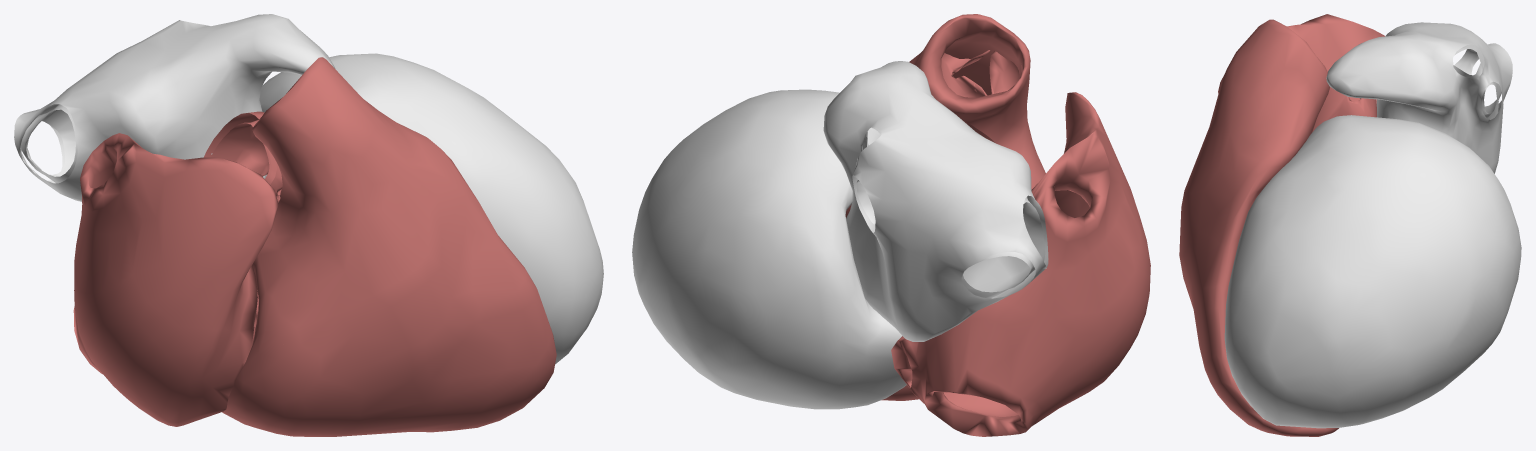
Rendered from vh_f_heart-20.fbx.
3 renders of one model, left to right at view 1: azimuth 30°, elevation 25°; view 2: azimuth 150°, elevation 25°; view 3: azimuth 270°, elevation 25°, orthographic. The views are drawn at different scales.
Visible parts, largest first — view 1: VH_F_right_ventricle, VH_F_right_cardiac_atrium, VH_F_left_ventricle, VH_F_left_cardiac_atrium, VH_F_aortic_valve; view 2: VH_F_left_ventricle, VH_F_left_cardiac_atrium, VH_F_right_cardiac_atrium, VH_F_right_ventricle, VH_F_pulmonary_valve; view 3: VH_F_left_ventricle, VH_F_right_ventricle, VH_F_left_cardiac_atrium, VH_F_right_cardiac_atrium, VH_F_aortic_valve.
Part boxes in pixels (x1=…): VH_F_right_ventricle: x1=222, y1=57, x2=556, y2=436; VH_F_right_cardiac_atrium: x1=73, y1=133, x2=278, y2=426; VH_F_left_ventricle: x1=259, y1=53, x2=603, y2=364; VH_F_left_cardiac_atrium: x1=14, y1=14, x2=335, y2=201; VH_F_aortic_valve: x1=203, y1=111, x2=282, y2=202; VH_F_left_ventricle: x1=632, y1=89, x2=906, y2=409; VH_F_left_cardiac_atrium: x1=823, y1=61, x2=1048, y2=341; VH_F_right_cardiac_atrium: x1=891, y1=92, x2=1150, y2=436; VH_F_right_ventricle: x1=881, y1=14, x2=1045, y2=400; VH_F_pulmonary_valve: x1=941, y1=50, x2=1022, y2=97; VH_F_left_ventricle: x1=1224, y1=115, x2=1521, y2=428; VH_F_right_ventricle: x1=1179, y1=19, x2=1338, y2=436; VH_F_left_cardiac_atrium: x1=1326, y1=22, x2=1512, y2=173; VH_F_right_cardiac_atrium: x1=1218, y1=14, x2=1384, y2=103; VH_F_aortic_valve: x1=1312, y1=87, x2=1376, y2=131.
Size of the model in its own units: 14.26 by 10.98 by 10.14.
